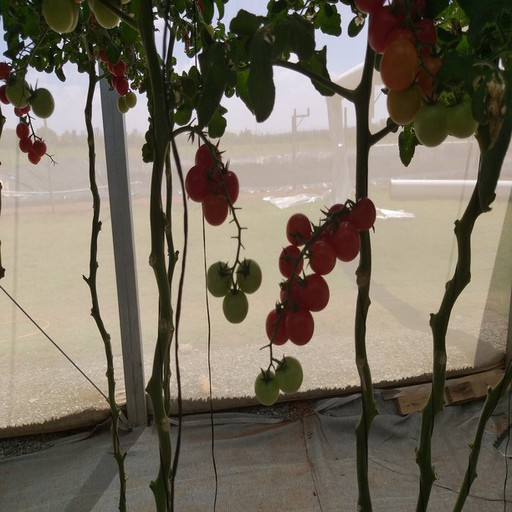green tomato bunch: (37, 1, 134, 35), (1, 72, 60, 113)
mixed tomato bunch: (355, 1, 481, 148)
red tomato bunch: (267, 199, 376, 345), (1, 57, 47, 163), (185, 141, 240, 224), (96, 46, 130, 93)
